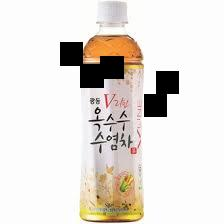oksususuyeomcha: (76, 0, 147, 223)
